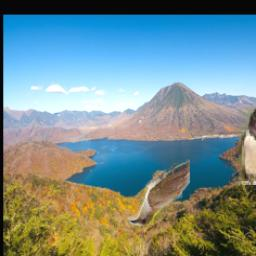Cuckoo: (127, 159, 190, 226)
Swallow: (240, 108, 256, 186)
